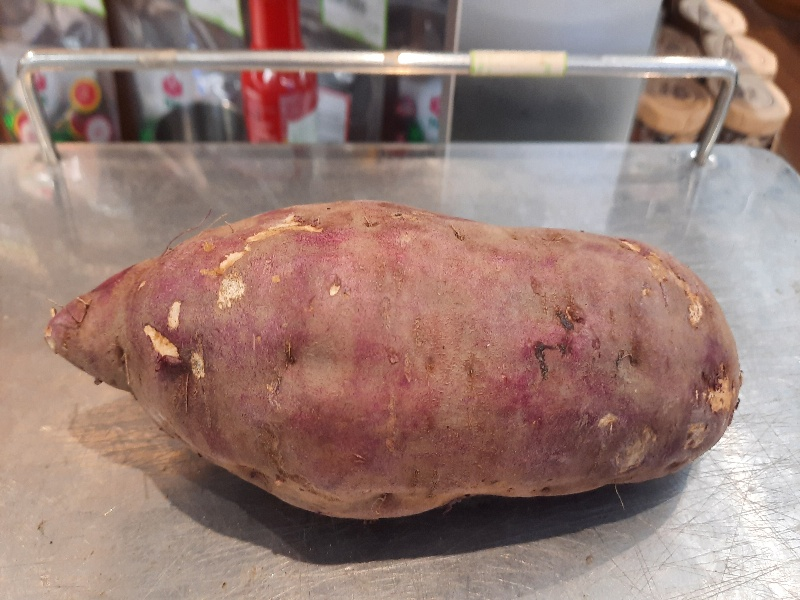vege: (40, 191, 748, 525)
